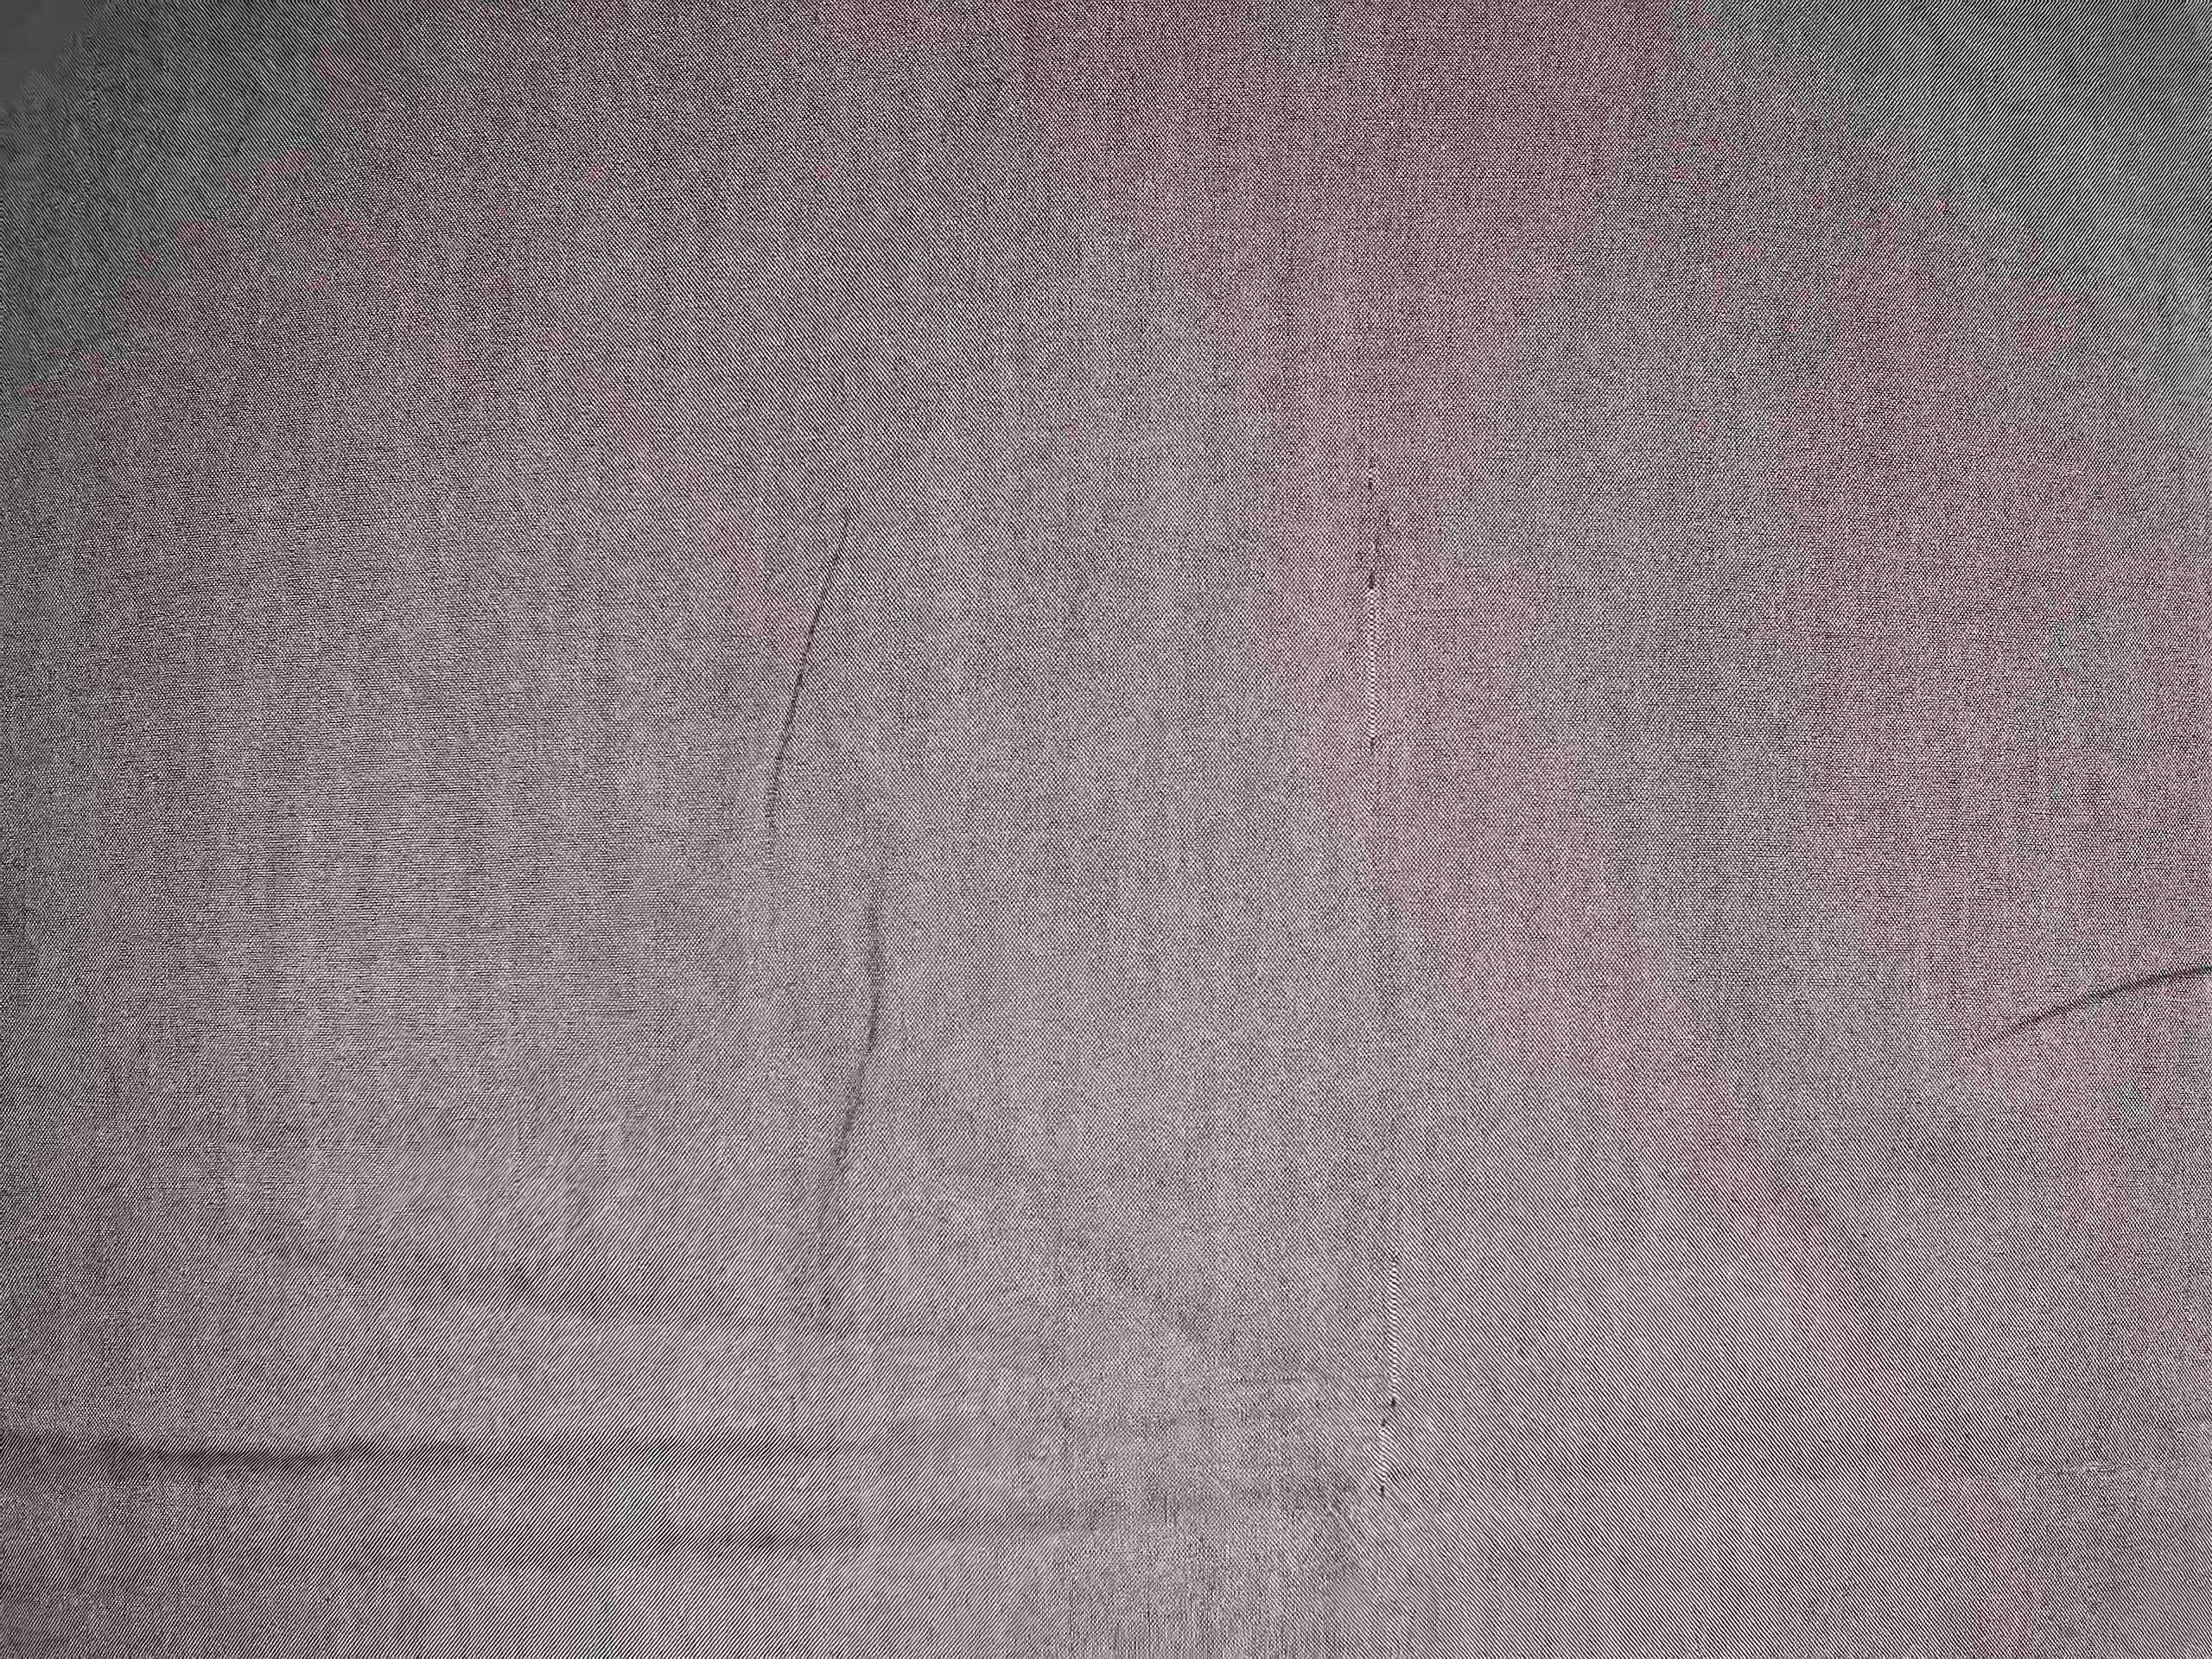hanging-warp: (1343, 450, 1404, 767), (1366, 1246, 1416, 1511)
